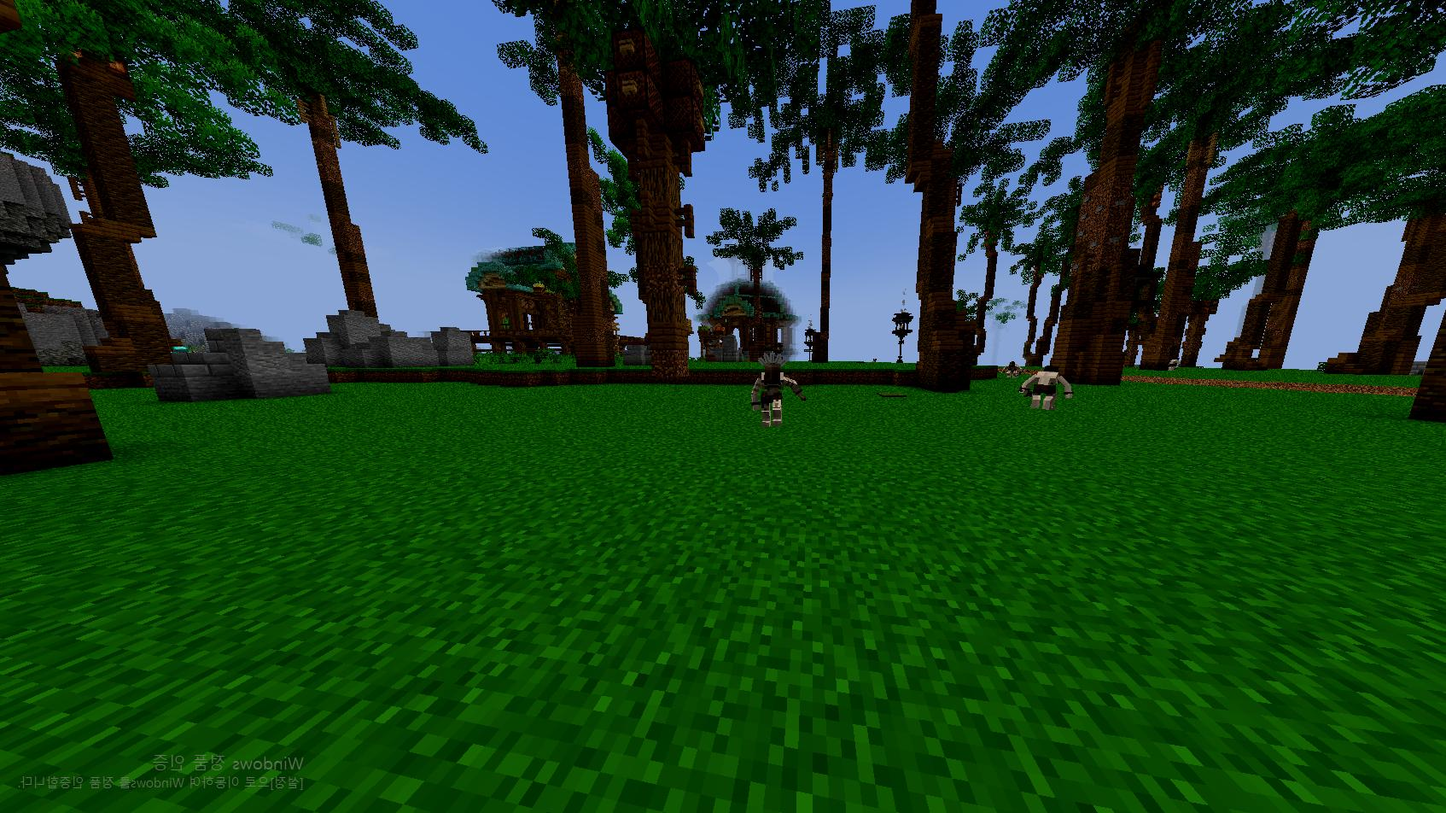bow_indian: (736, 352, 812, 443)
